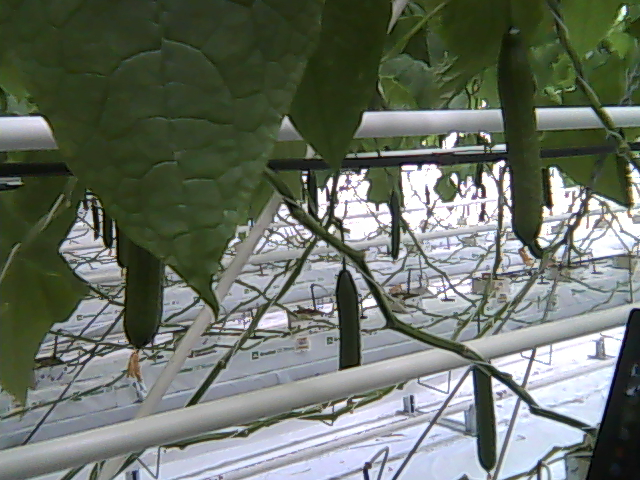concombre: (494, 19, 546, 268), (121, 237, 167, 385)
